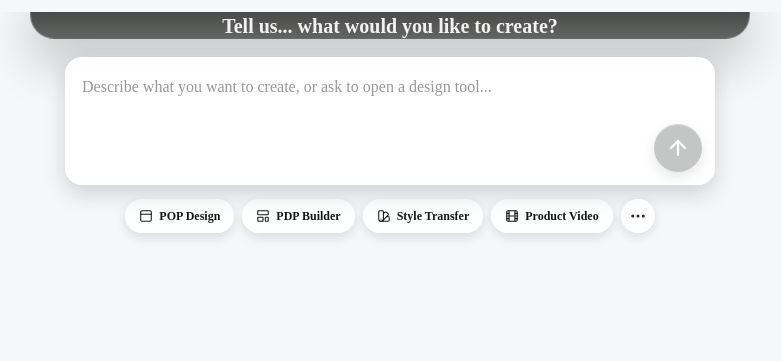
Test: CoverChat › shows the assistant reply and navigates when the API returns a target
Replace the text in the text box named "Message the creative assistant" with "我要去 POP 页面" at (390, 121), box [66,58,714,184]
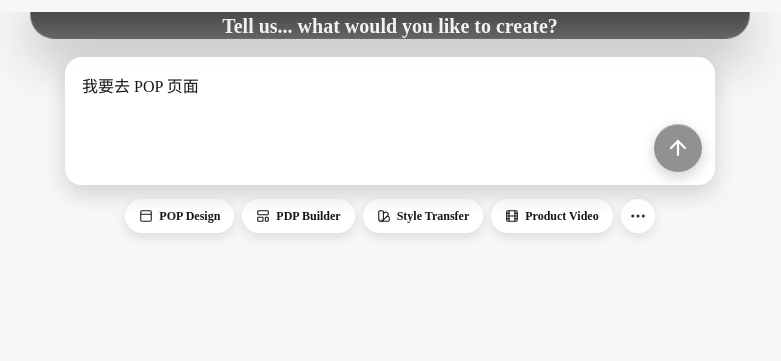
Click the button named "Send message" at (678, 148), box [654,124,702,172]
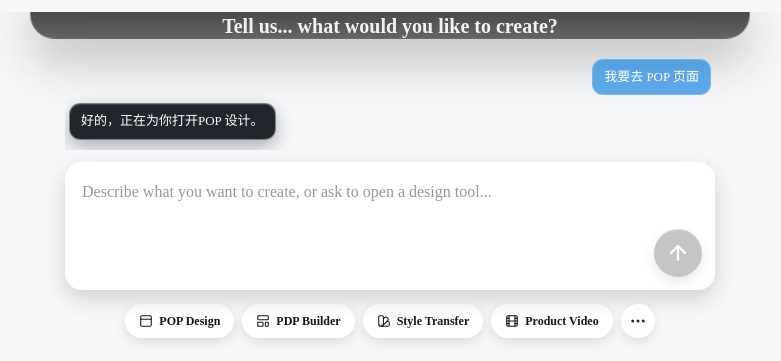
Expected: the text "好的，正在为你打开POP 设计。" is shown, [69,104,276,140]
